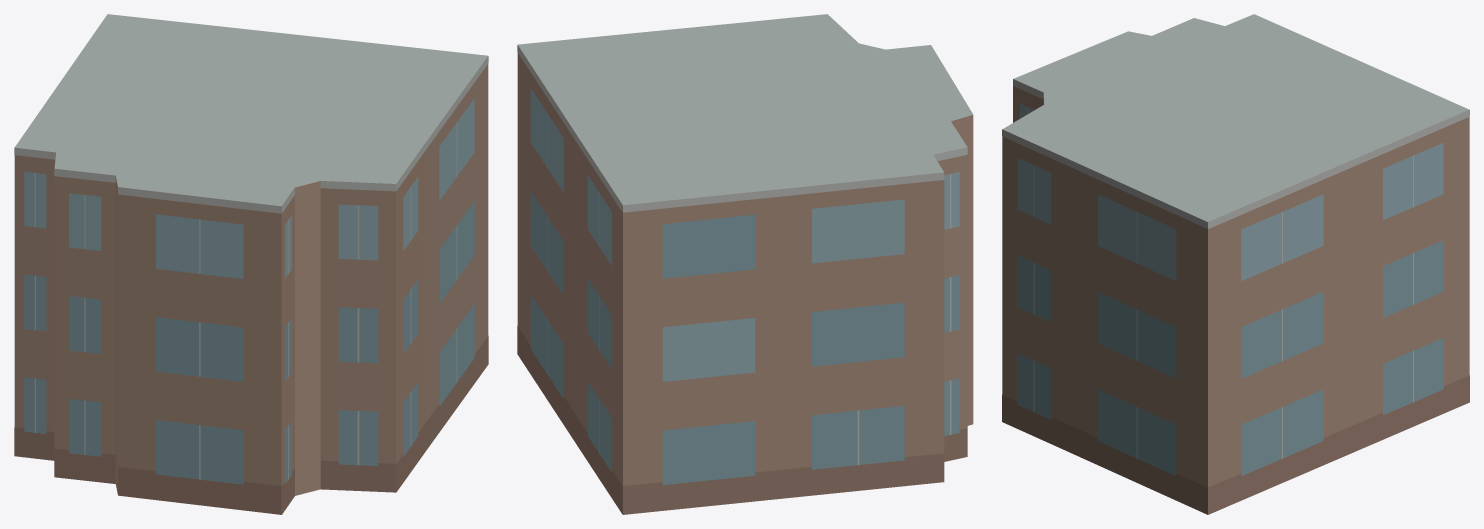
Rendered from survey-upis-32862281.glb.
3 views of the same model, side by side, from view 1: azimuth 30°, elevation 25°; view 2: azimuth 150°, elevation 25°; view 3: azimuth 270°, elevation 25° (orthographic). The views are drawn at different scales.
Parts seen in each view (by area): view 1: survey-upis-32862281.tmp; view 2: survey-upis-32862281.tmp; view 3: survey-upis-32862281.tmp.
Boxes of the visible parts, x1,y1,x2,y2 form: survey-upis-32862281.tmp: (14, 14, 488, 514); survey-upis-32862281.tmp: (517, 14, 973, 514); survey-upis-32862281.tmp: (1002, 14, 1469, 514).
Bounding box in the file's own units: 15.57 × 10.2 × 14.77.
